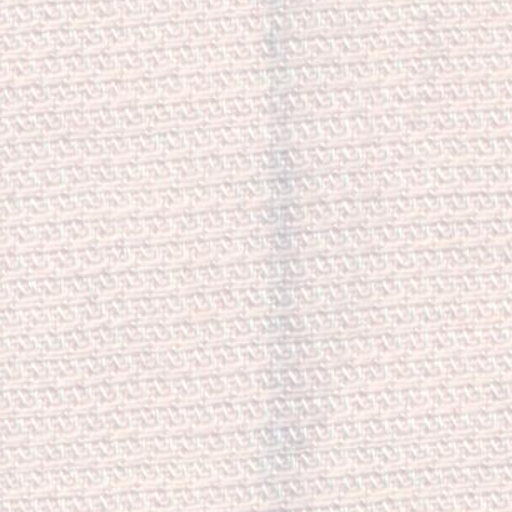WuZi: (228, 8, 360, 498)
